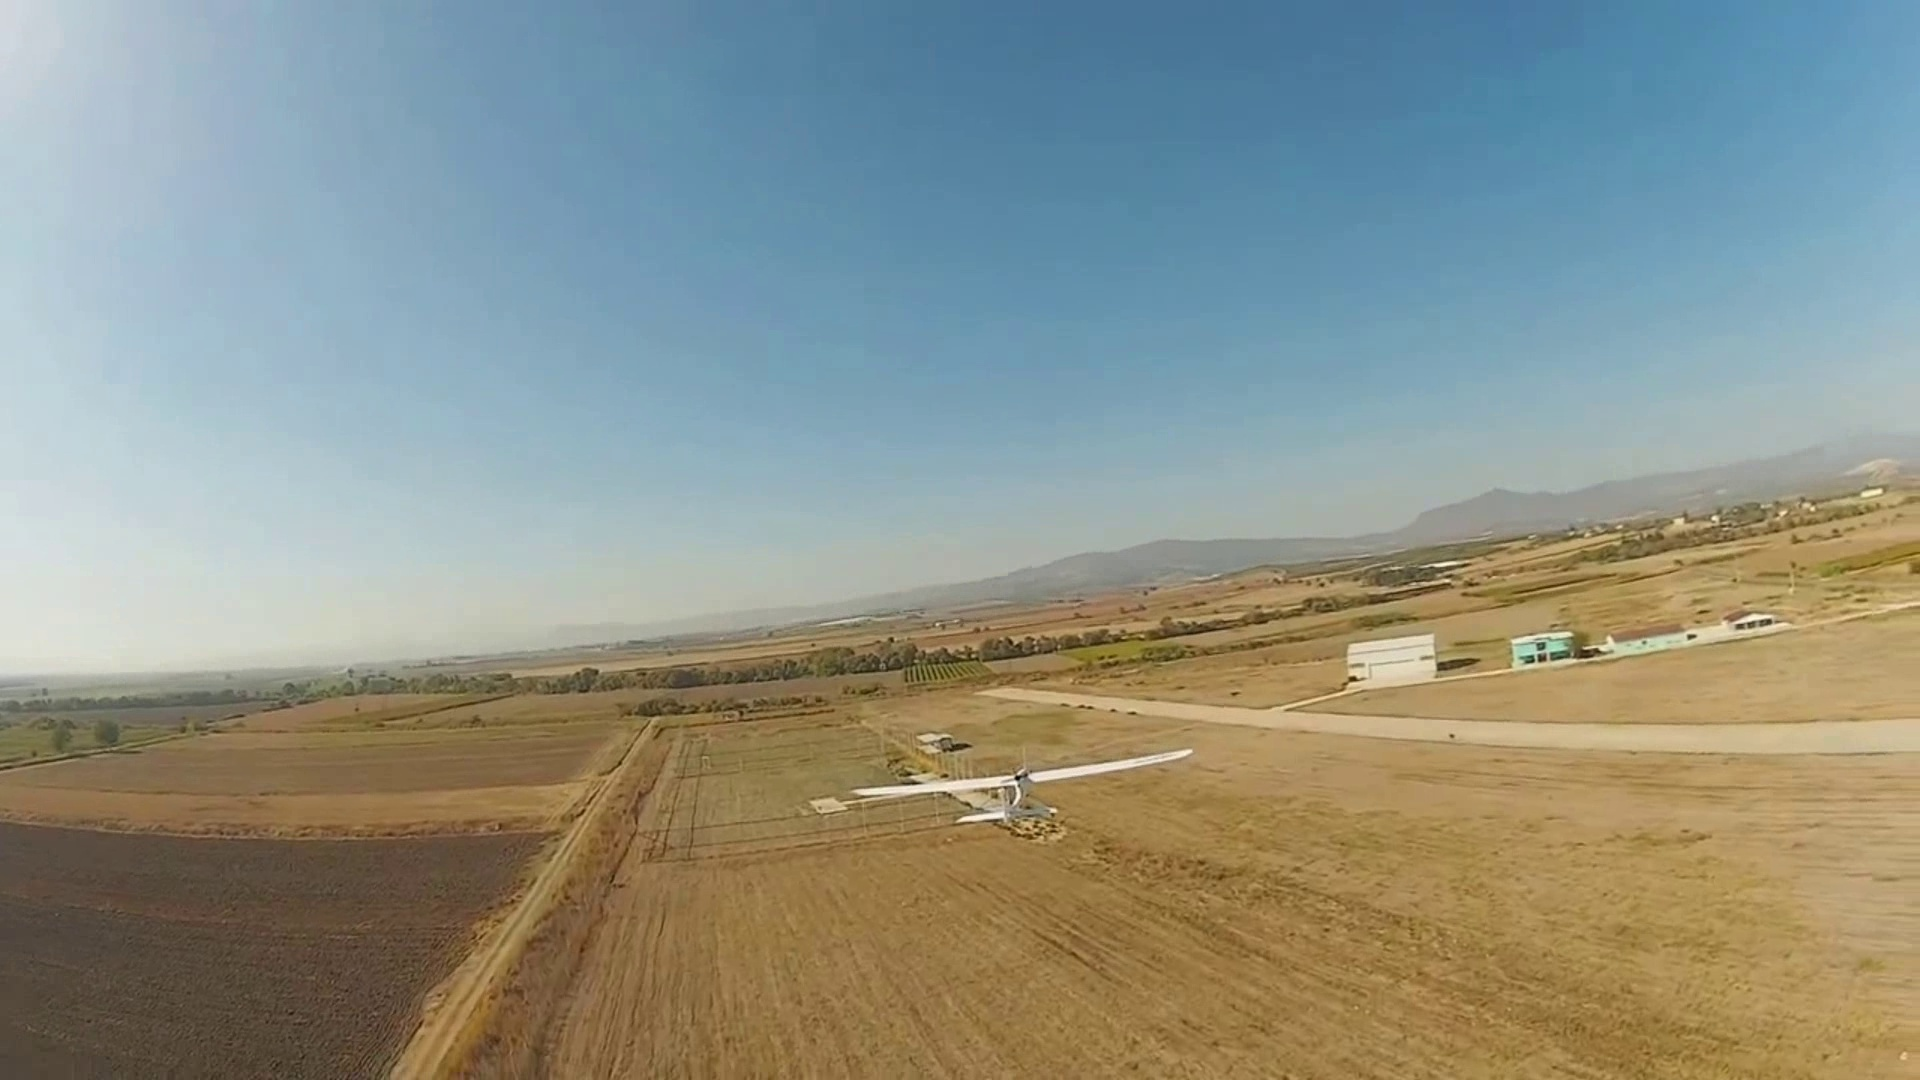airplane: (804, 738, 1197, 839)
